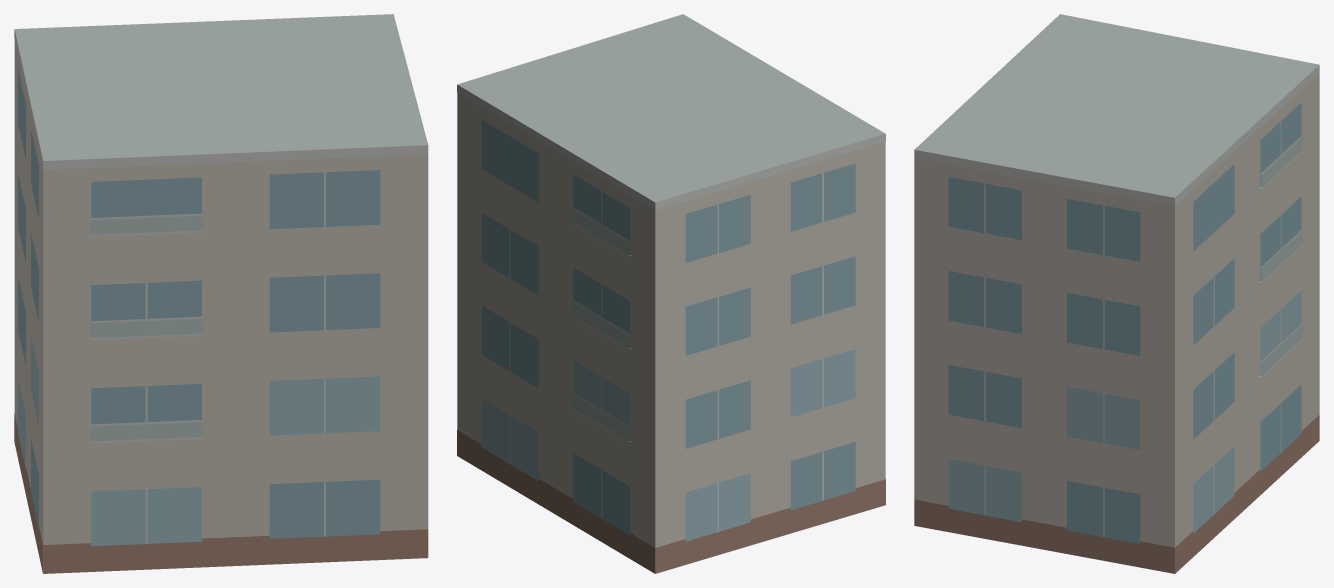
File: survey-upis-32561079.glb
3 renders of one model, left to right at view 1: azimuth 30°, elevation 25°; view 2: azimuth 150°, elevation 25°; view 3: azimuth 270°, elevation 25°, orthographic. The views are drawn at different scales.
Parts seen in each view (by area): view 1: survey-upis-32561079.tmp; view 2: survey-upis-32561079.tmp; view 3: survey-upis-32561079.tmp.
Part boxes in pixels (left/top/right/bottom): survey-upis-32561079.tmp: left=14, top=14, right=428, bottom=573; survey-upis-32561079.tmp: left=457, top=14, right=885, bottom=573; survey-upis-32561079.tmp: left=914, top=14, right=1319, bottom=573.
Size of the model in its own units: 11.8 by 11.25 by 11.
